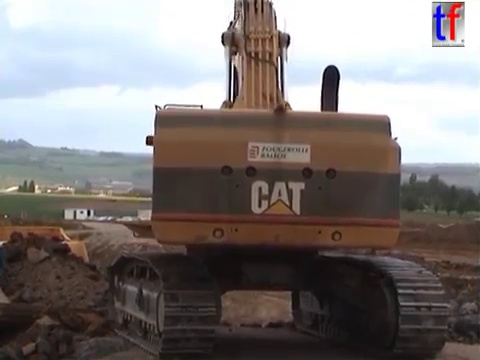excavator: (103, 1, 452, 360)
truck: (1, 222, 126, 360)
